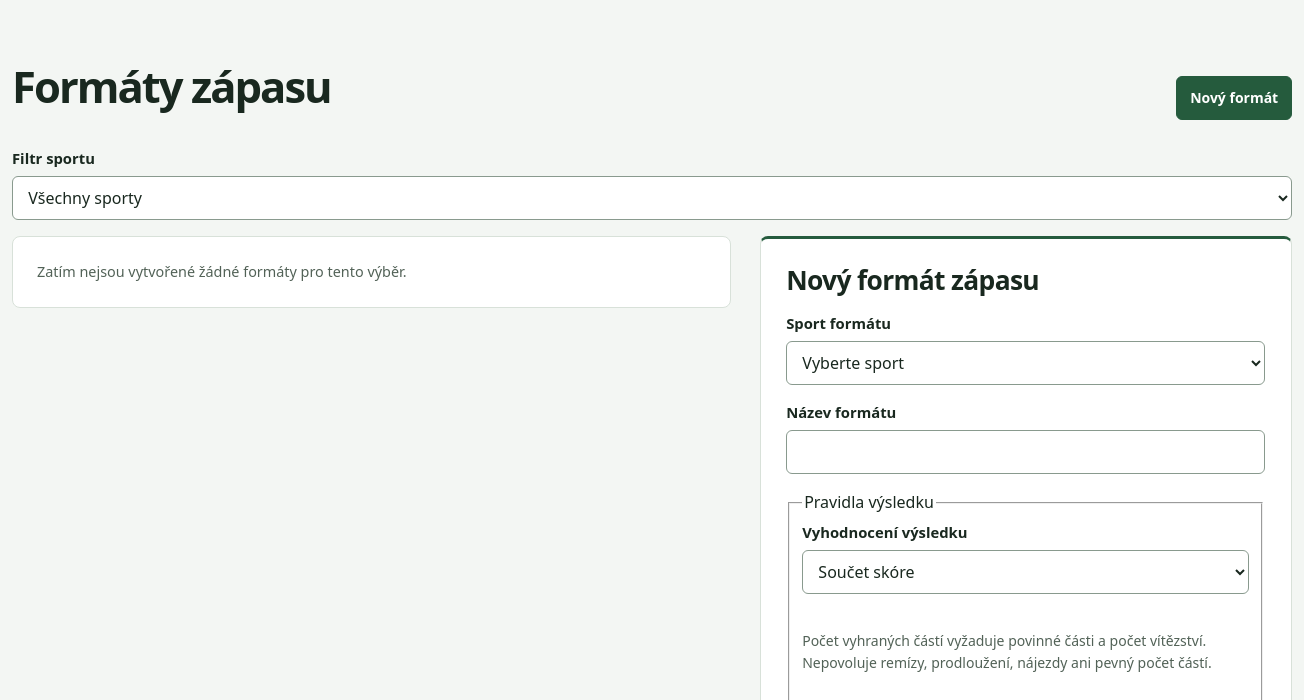
Test case: P4 formáty zápasu › označí chybný sport a zachová formulář bez zobrazení serverových detailů
This screenshot has width=1304, height=700.
Select "Fotbal" in the dropdown labelled "Sport formátu" at (1026, 363), box [786, 341, 1266, 385]
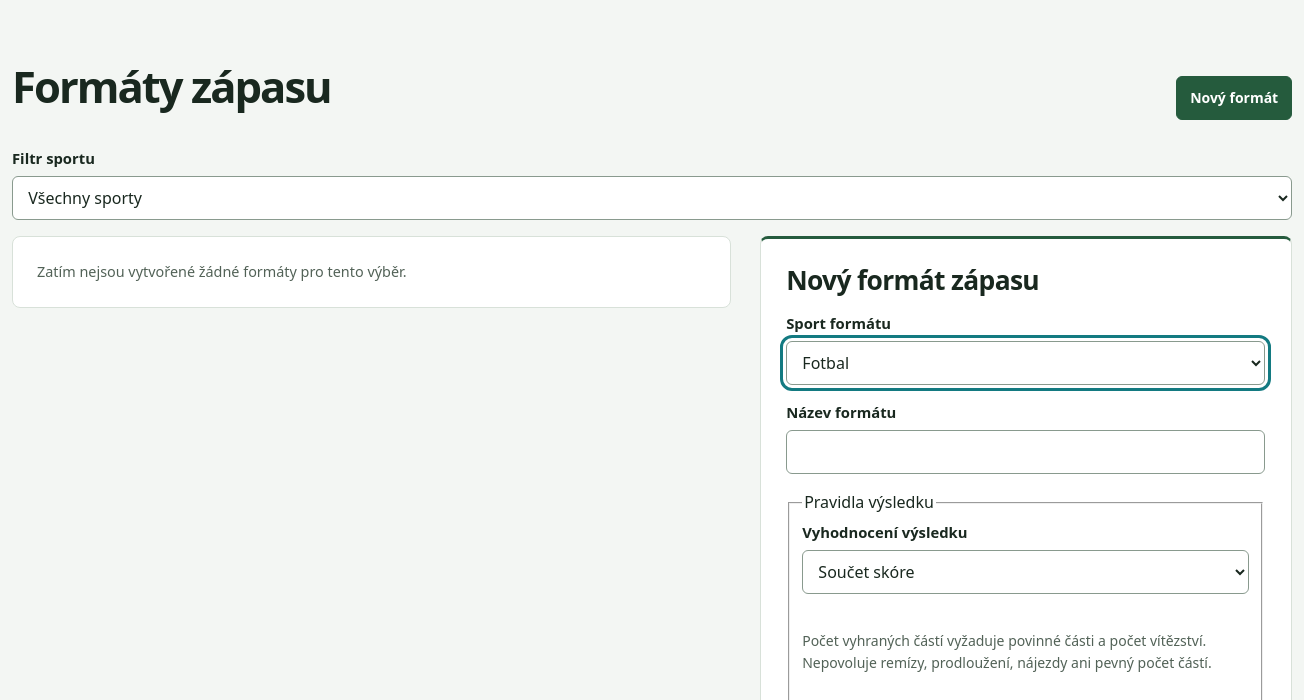
Type "Rozepsaný formát" into the field labelled "Název formátu".
click(1026, 452); type("Rozepsaný formát")  # box [786, 430, 1266, 474]
(page scrolled)
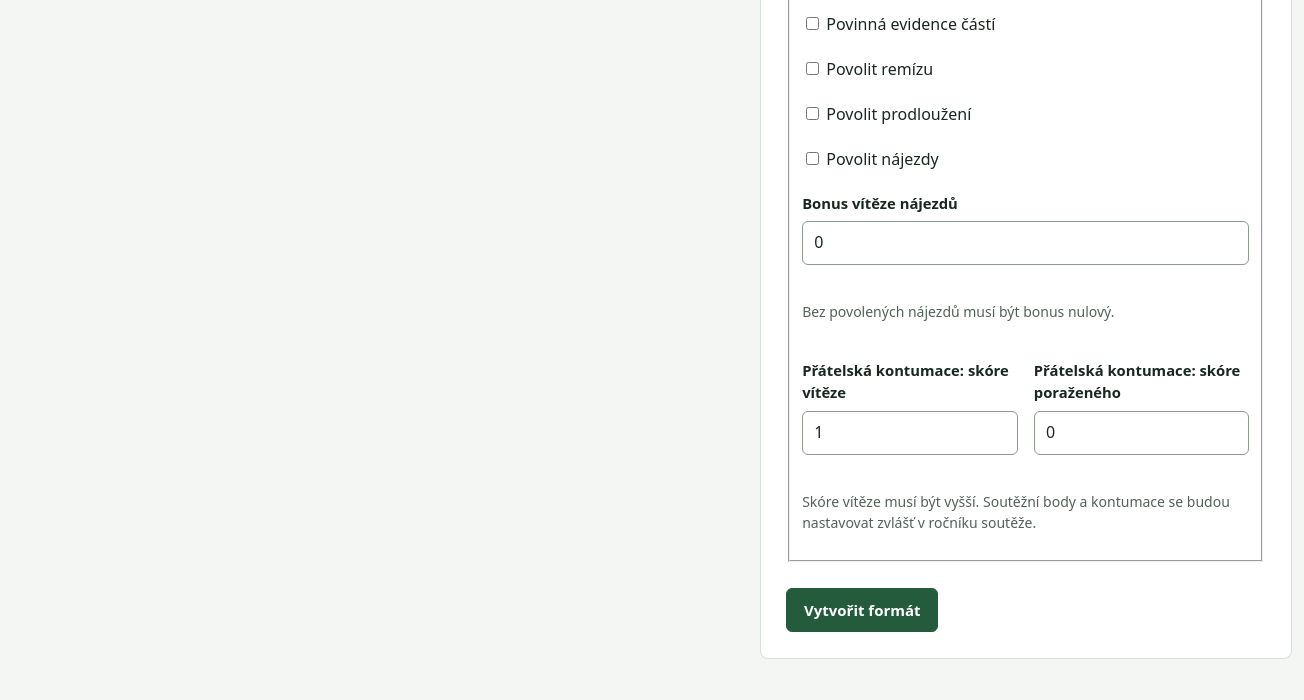
Click the button "Vytvořit formát".
click(862, 610)  # box [786, 588, 938, 632]
(page scrolled)
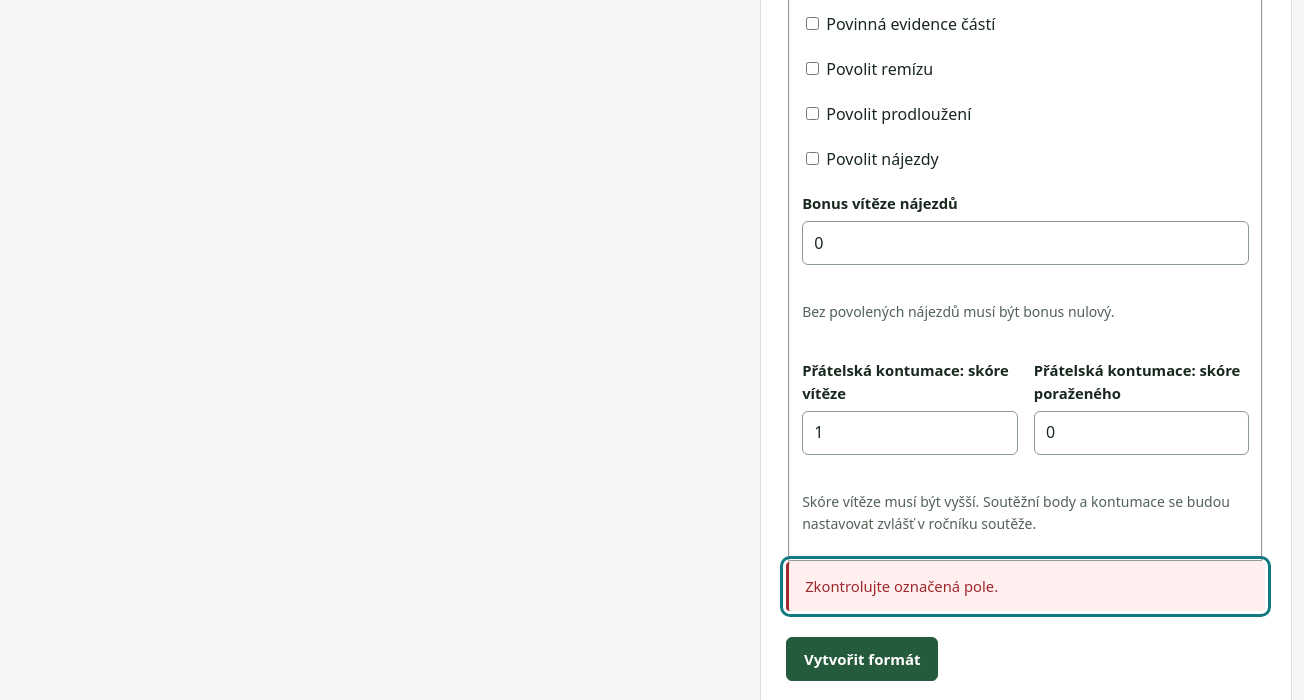
Result: the message "Zkontrolujte označená pole." is shown at [786, 562, 1266, 611]
Click the button "Vytvořit formát".
click(862, 659)  # box [786, 637, 938, 681]
(page scrolled)
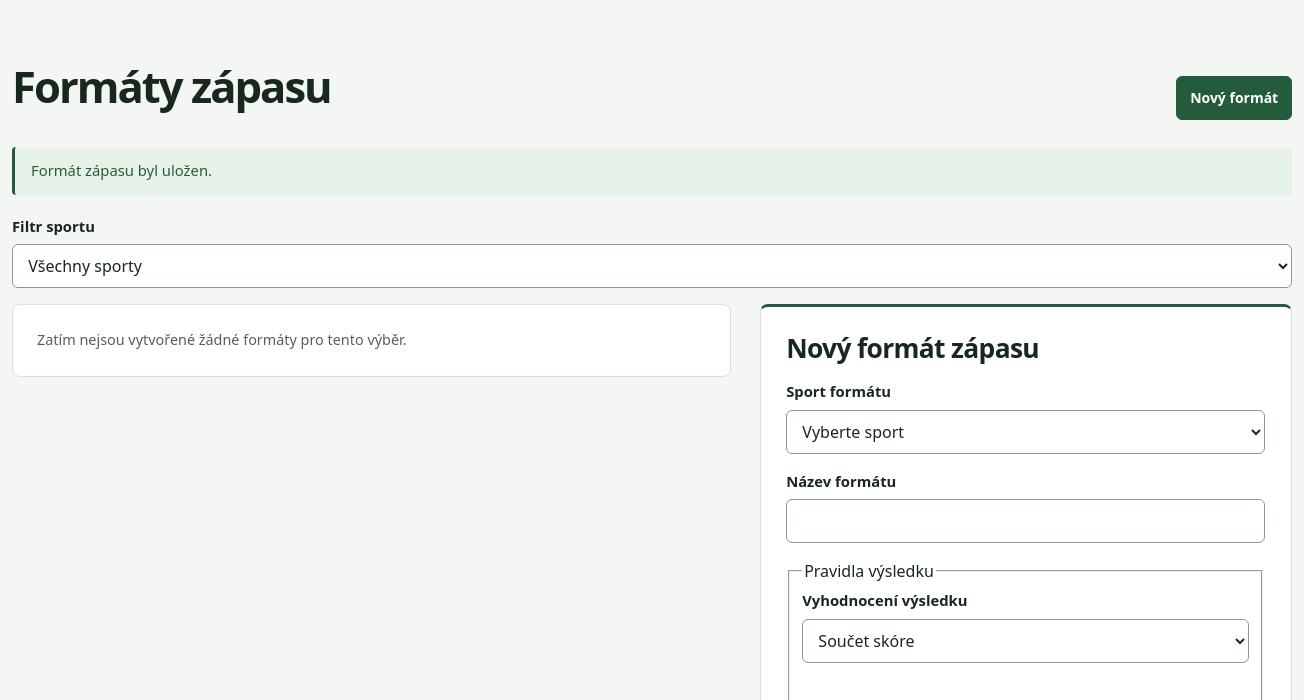
Result: the text "Formát zápasu byl uložen." is shown at [12, 147, 1292, 195]
